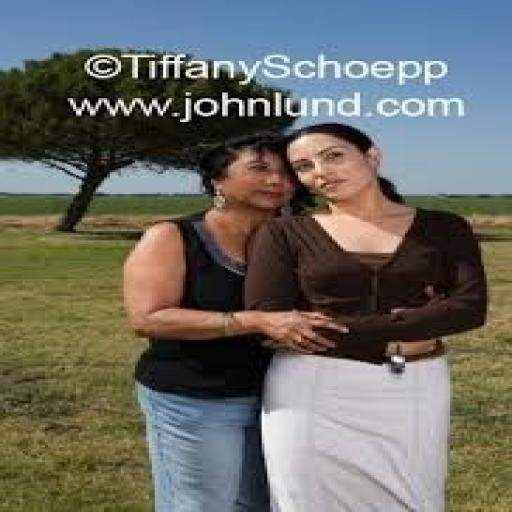hugging: (242, 120, 492, 510)
